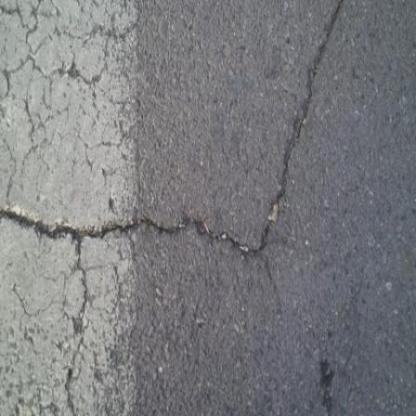Cracks: (248, 0, 366, 321), (0, 0, 134, 202), (2, 185, 278, 277), (53, 228, 108, 416)
